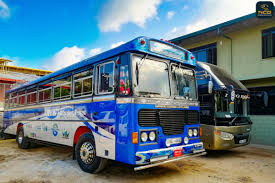bus: (2, 36, 207, 173), (193, 60, 252, 153)
